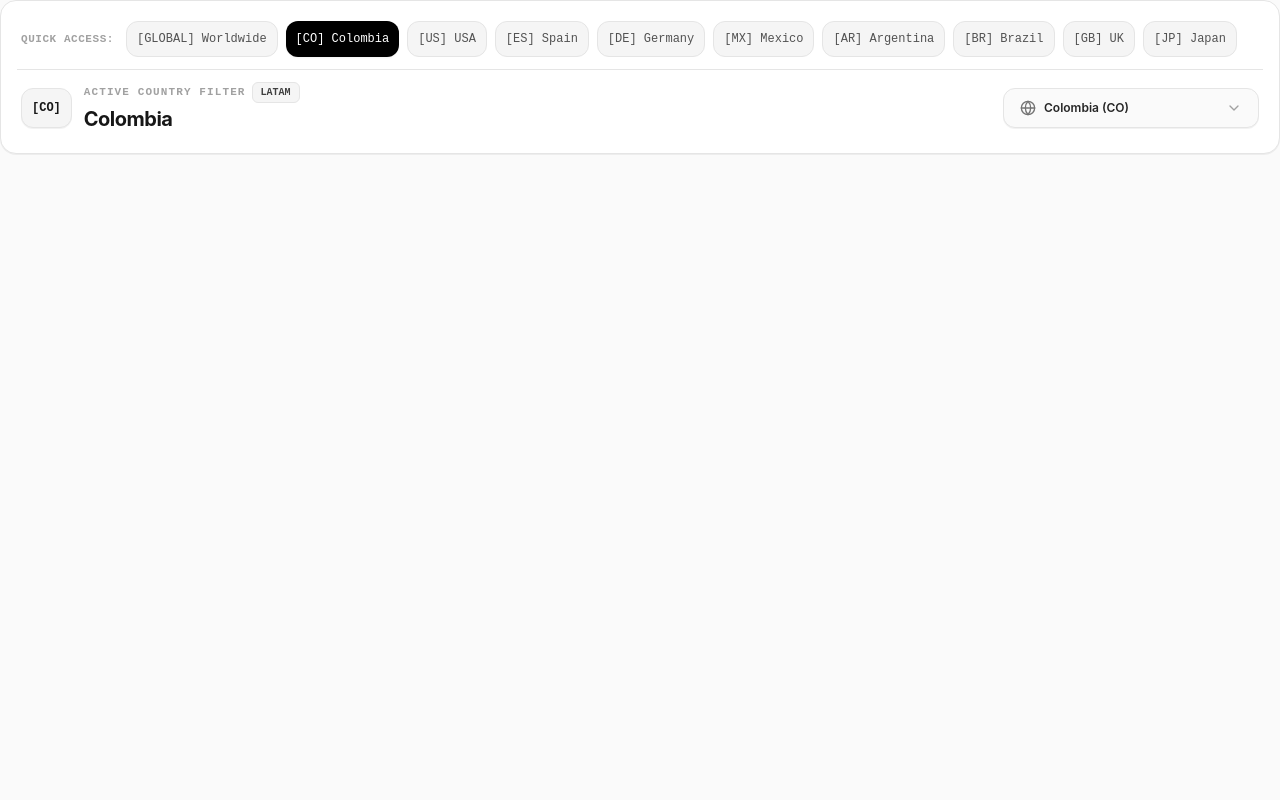
Scenario: CountrySelector › finds countries by Spanish name without accents and selects with Enter
The image size is (1280, 800).
Step 1. Click the button "Colombia (CO)" → (1131, 108), box top-left (1003, 88), bottom-right (1259, 128)
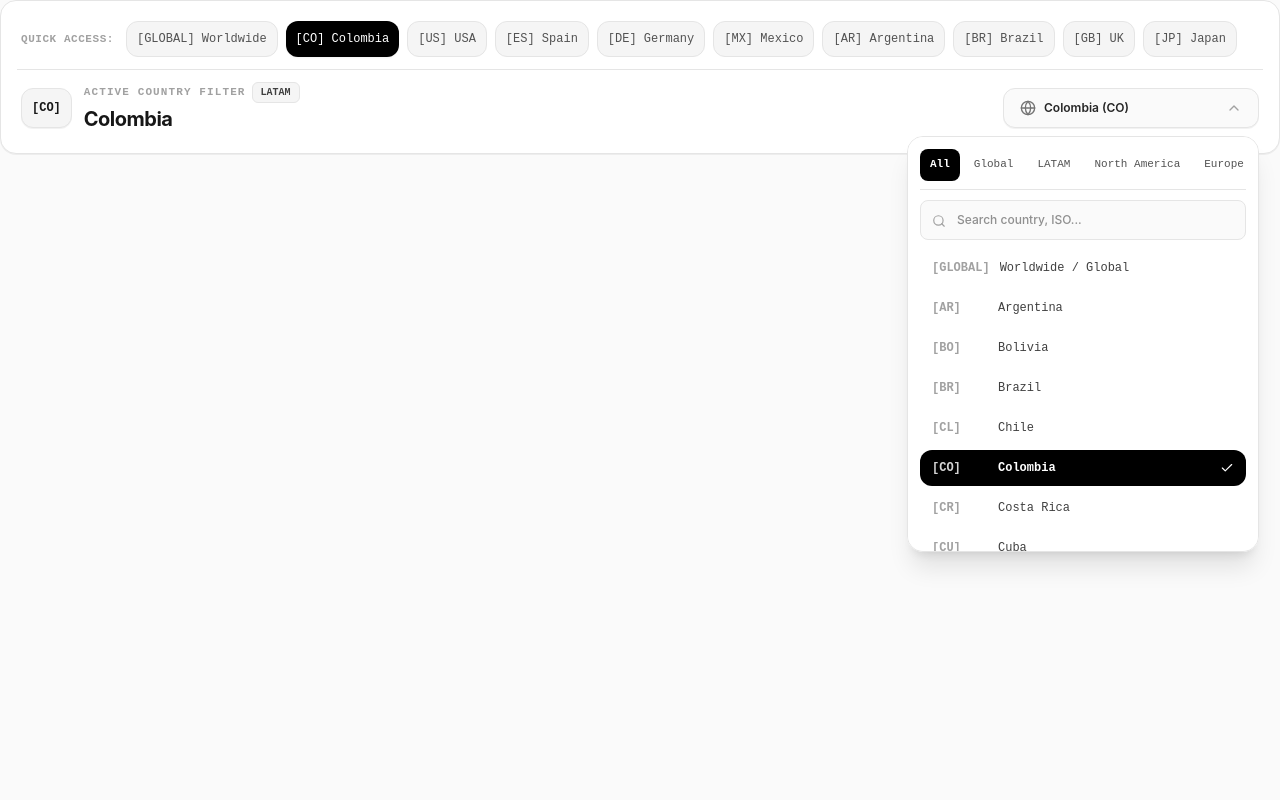
Step 2. Type "espAña" into the search field named "Search countries" → (1083, 220), box top-left (920, 200), bottom-right (1246, 240)
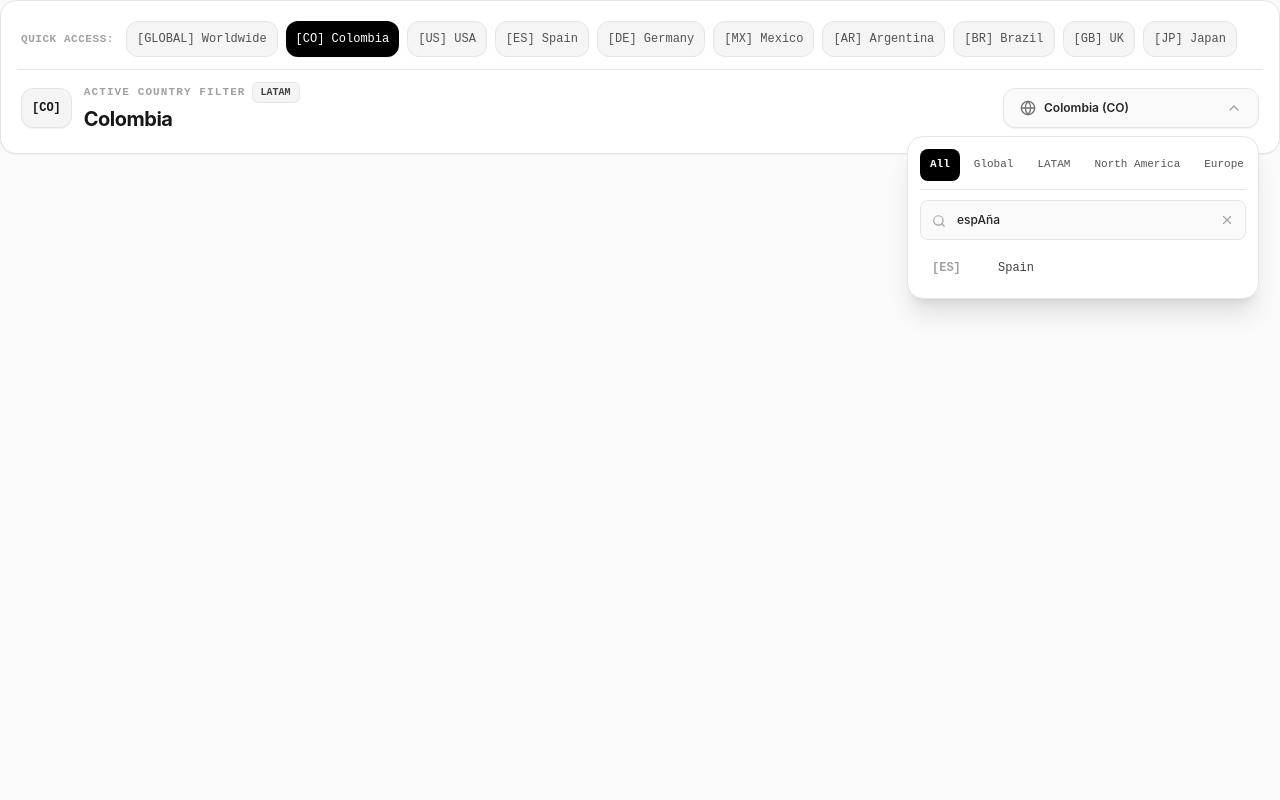
Expected: the text "Spain" is shown, top-left (998, 260), bottom-right (1034, 276)
Step 3. Press Enter in the search field named "Search countries", box top-left (920, 200), bottom-right (1246, 240)
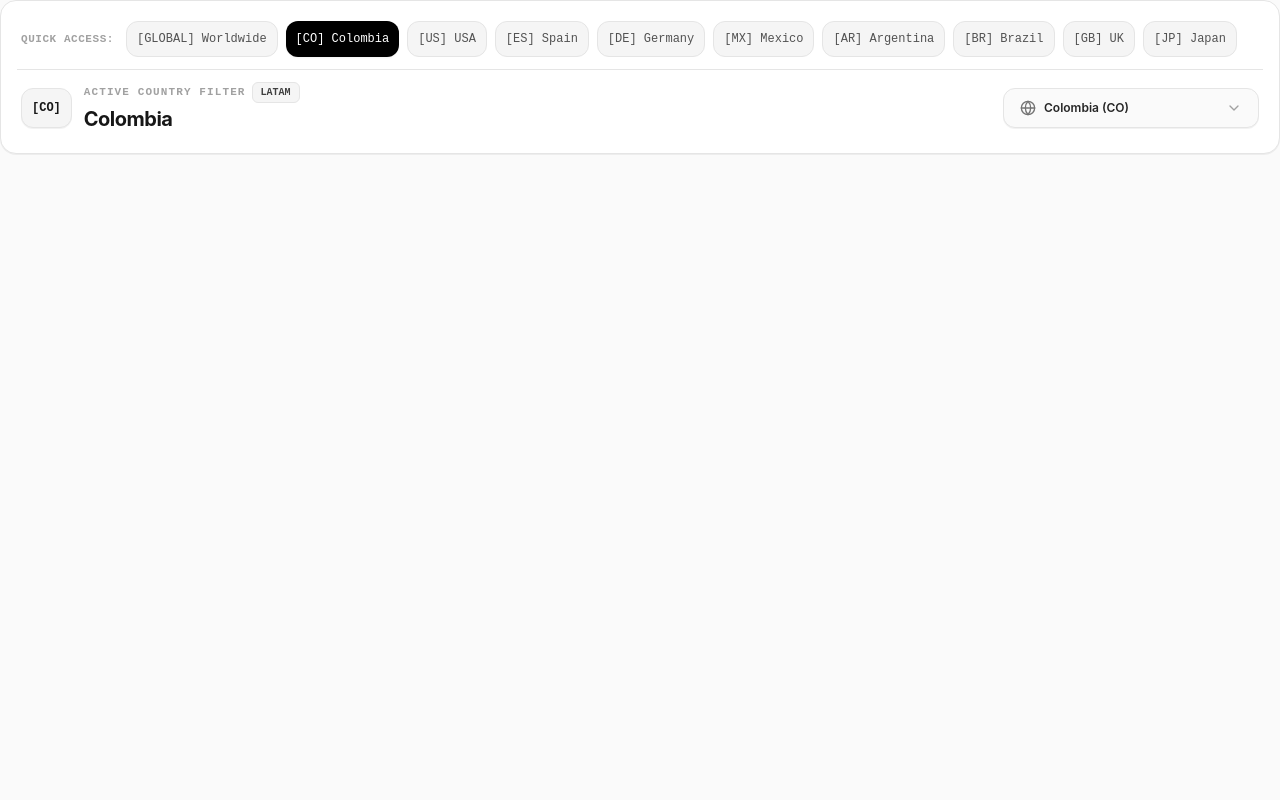
Expected: the list is gone
